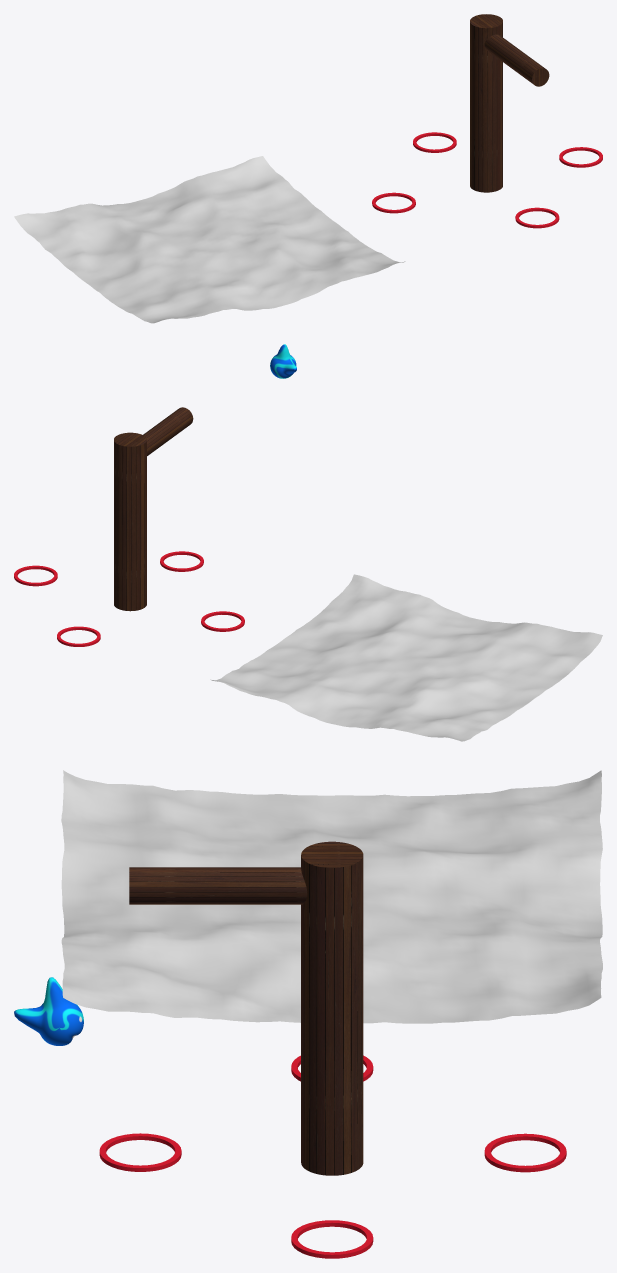
The model's file is newDropper.fbx.
3 views of the same model, one above another, from view 1: azimuth 30°, elevation 25°; view 2: azimuth 150°, elevation 25°; view 3: azimuth 270°, elevation 25° (orthographic). The views are drawn at different scales.
Parts seen in each view (by area): view 1: ocean, poteau, Cylinder.001, poisson; view 2: ocean, poteau, Cylinder.001; view 3: ocean, poteau, Cylinder.001, poisson, cercle_1, cercle_3, cercle_2.
Part boxes in pixels (x1,y1,x2,y2): ocean: (14,156,405,323); poteau: (470,14,502,192); Cylinder.001: (484,34,549,86); poisson: (270,344,296,378); ocean: (210,574,602,741); poteau: (114,432,146,611); Cylinder.001: (143,407,193,455); ocean: (61,770,602,1023); poteau: (301,841,363,1175); Cylinder.001: (129,867,307,904); poisson: (14,977,83,1045); cercle_1: (484,1133,566,1172); cercle_3: (99,1133,181,1171); cercle_2: (291,1220,373,1258).
Size of the model in its own units: 1061 by 463 by 560.
